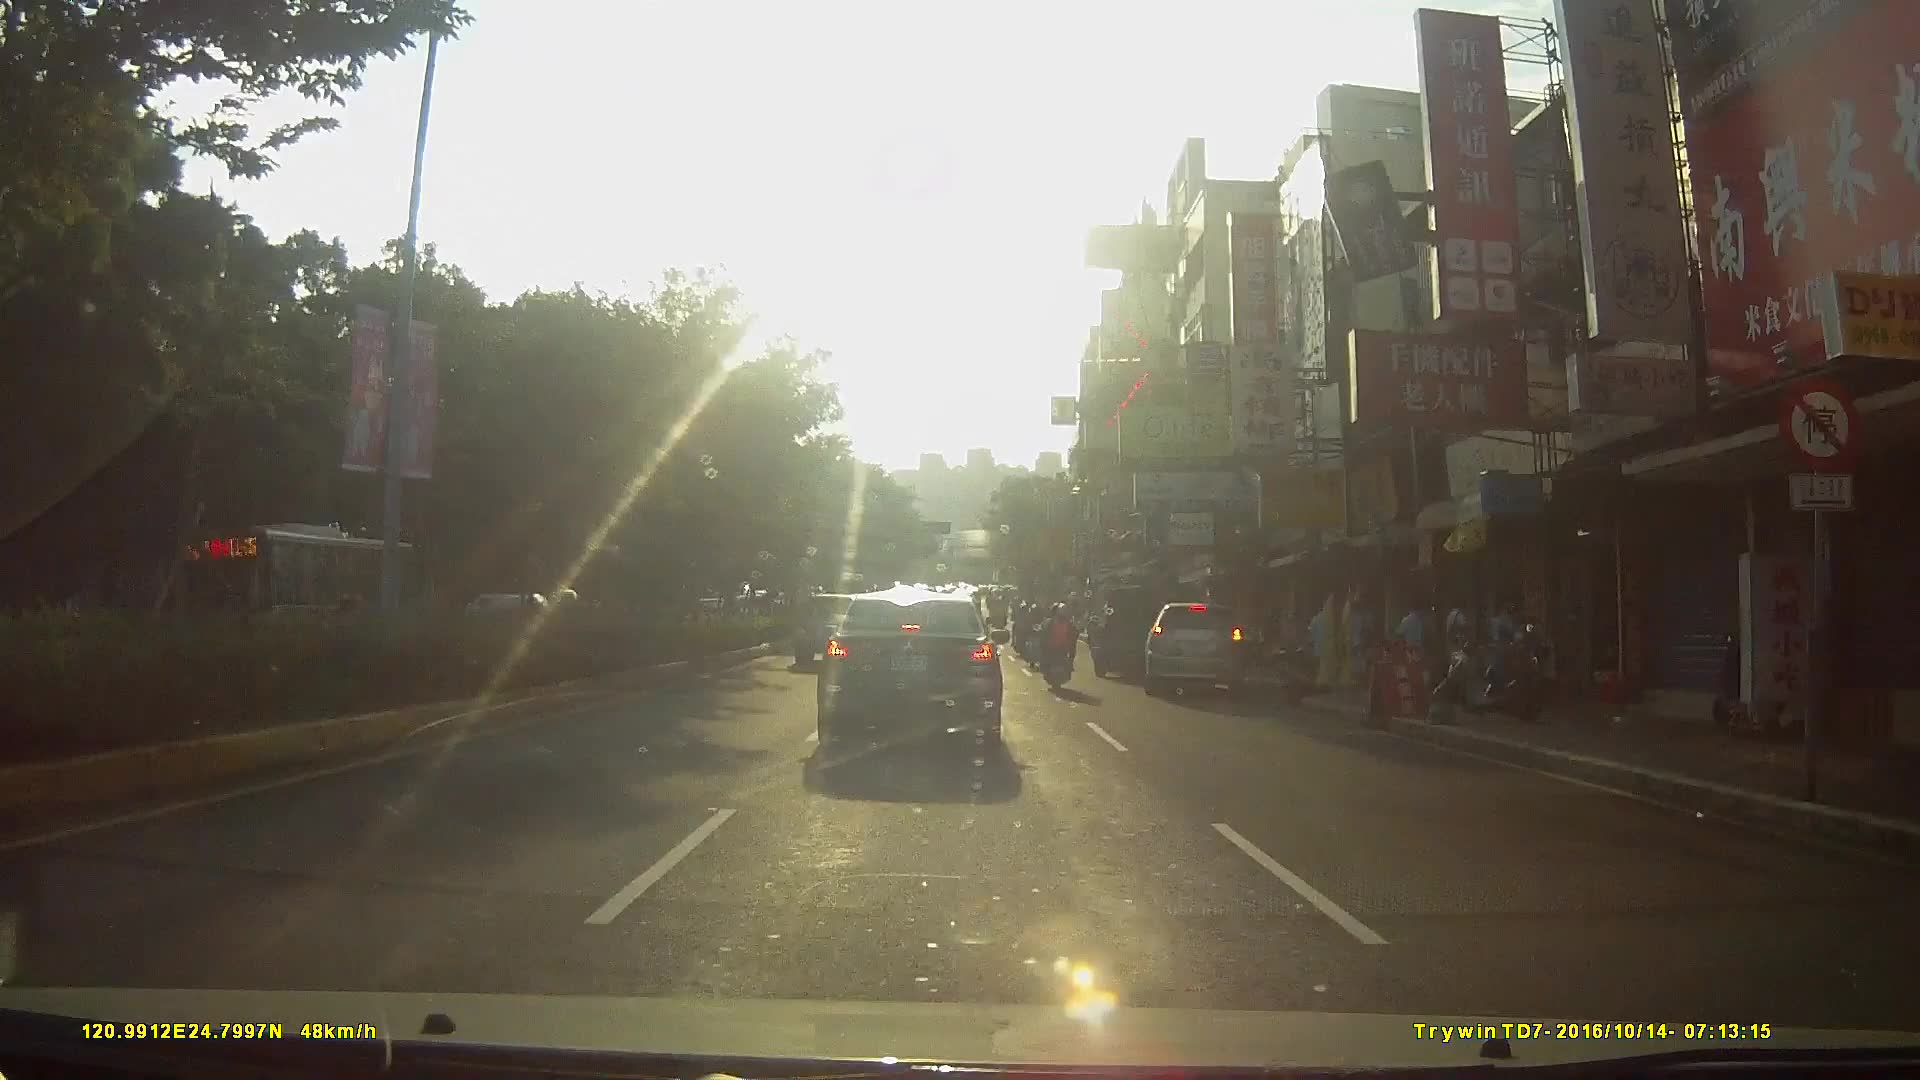pedestrian: (1396, 601, 1434, 688), (1488, 593, 1518, 683), (1446, 595, 1467, 677)
rider: (1038, 596, 1083, 694), (1021, 601, 1046, 670)
vehicle: (176, 518, 433, 668), (818, 589, 1030, 768), (1151, 599, 1264, 704), (1089, 582, 1183, 686)
